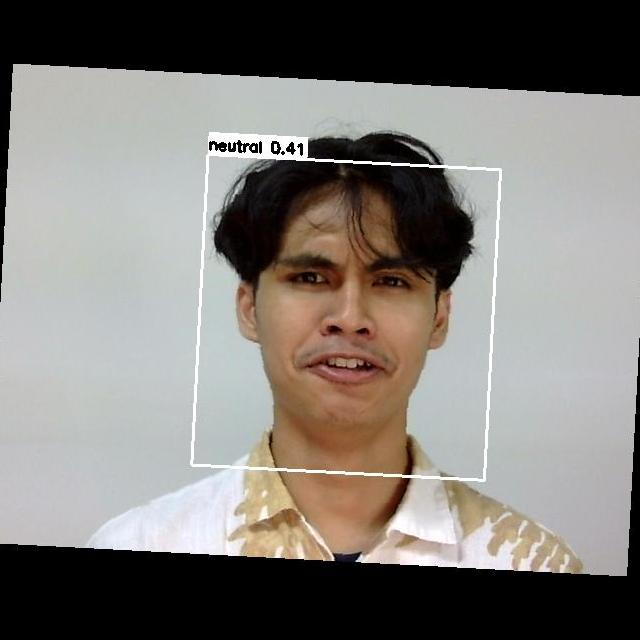Fear: (248, 231, 442, 406)
